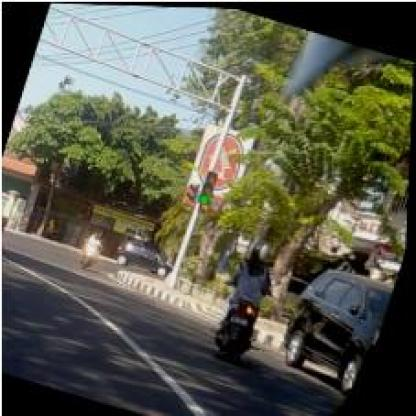green: (199, 170, 219, 204)
